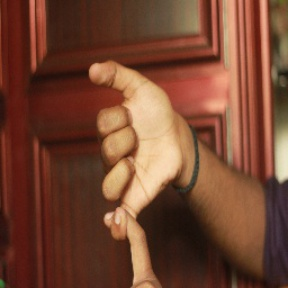S: (81, 58, 183, 288)
